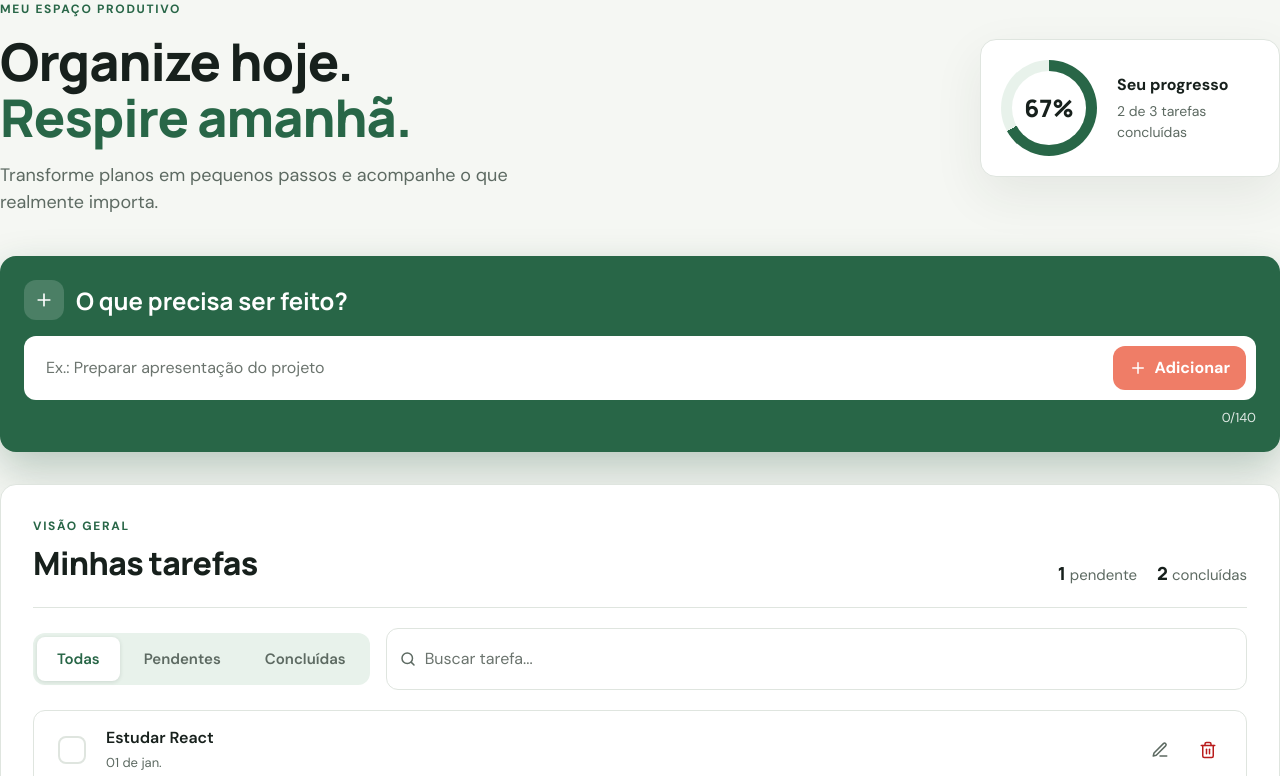
Test: TasksPage — busca sem resultado › mantém a precedência da busca sobre o filtro na ausência de resultados
The width and height of the screenshot is (1280, 776).
Click the button "Concluídas": (305, 659) [245,637,366,681]
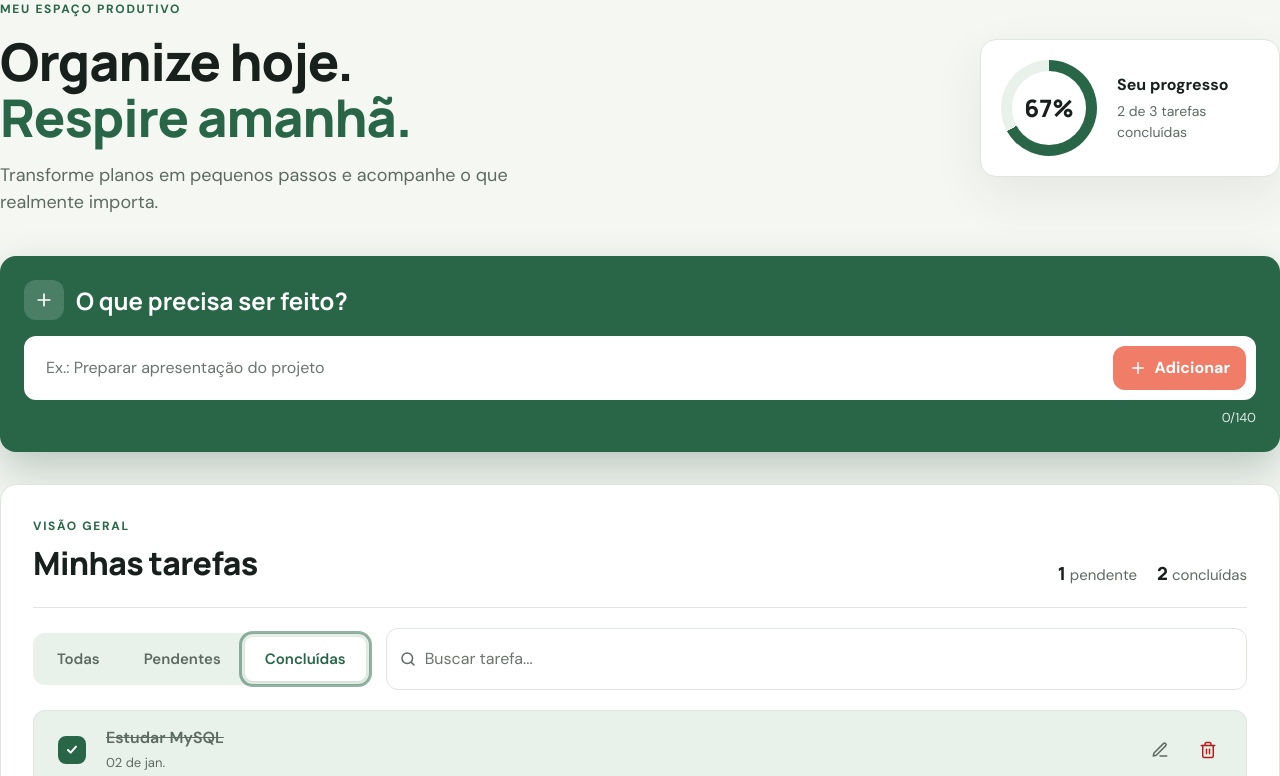
In the search field: (829, 659) [425,637,1234,681], type "xyz"
(page scrolled)
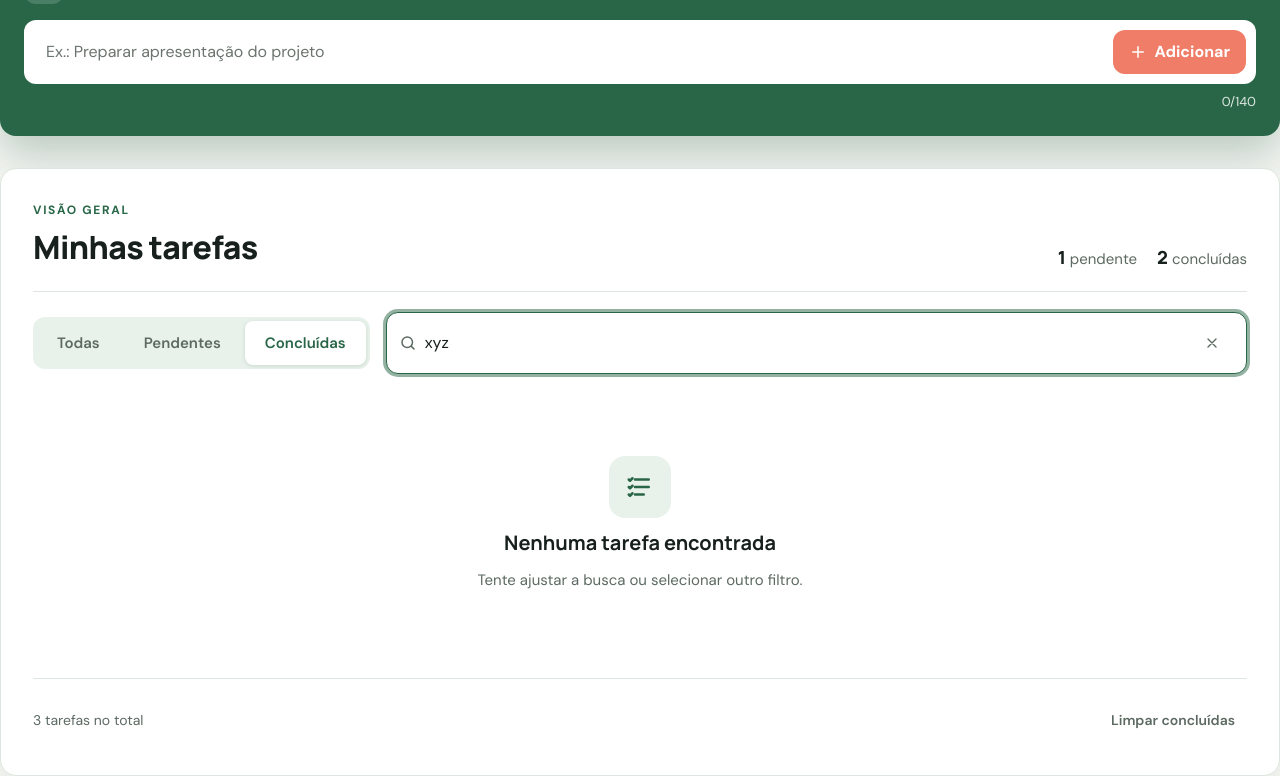
Expected: the heading "Nenhuma tarefa encontrada" is shown, [504,530,776,556]
